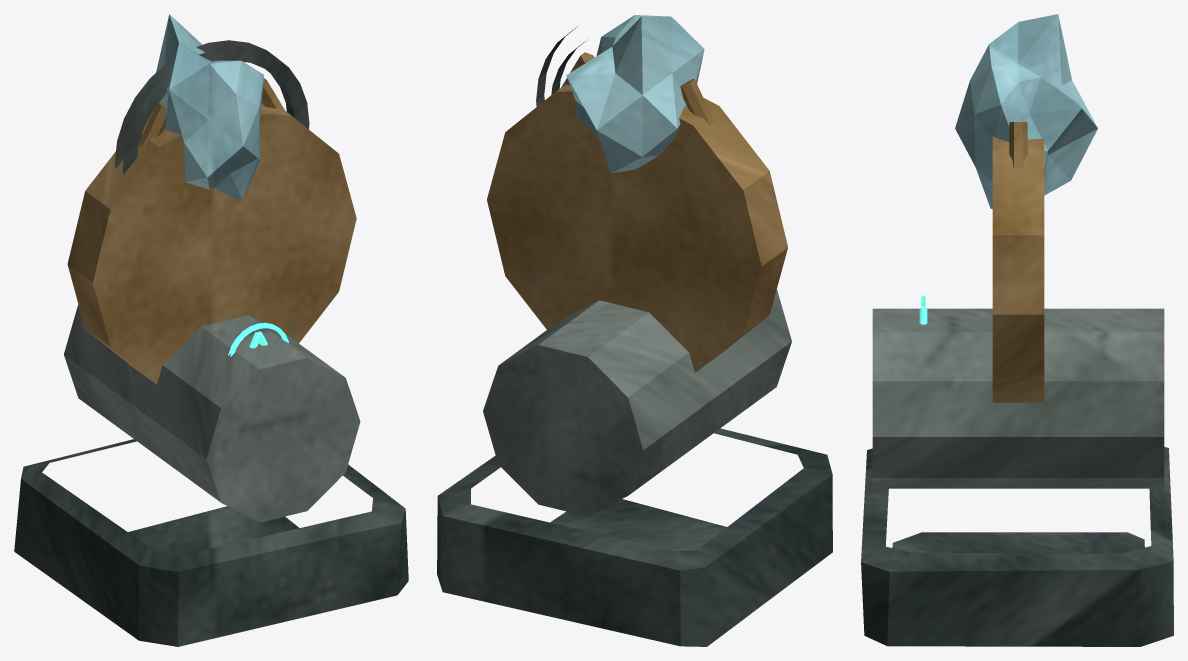
File: 0585_relic_pedestal_10.glb
3 views of the same model, side by side, from view 1: azimuth 30°, elevation 25°; view 2: azimuth 150°, elevation 25°; view 3: azimuth 270°, elevation 25° (orthographic). The views are drawn at different scales.
Visible parts, largest first — view 1: brass, stone_dark, stone, ice, iron, glow; view 2: brass, stone_dark, stone, ice, iron; view 3: stone, stone_dark, ice, brass.
Part boxes in pixels (box(x1,y1,x2,y2)): brass: box(67, 78, 356, 384); stone_dark: box(14, 439, 408, 646); stone: box(64, 304, 360, 522); ice: box(147, 14, 263, 200); iron: box(114, 40, 309, 174); glow: box(228, 322, 288, 356); brass: box(487, 52, 787, 372); stone_dark: box(437, 428, 832, 646); stone: box(483, 289, 791, 516); ice: box(566, 15, 704, 173); iron: box(536, 26, 585, 106); stone: box(872, 308, 1164, 488); stone_dark: box(861, 447, 1173, 646); ice: box(955, 14, 1097, 209); brass: box(992, 122, 1044, 402).
Size of the model in its own units: 0.9638 by 1.92 by 0.9664.
Materials: 6 (6 with a texture image).
